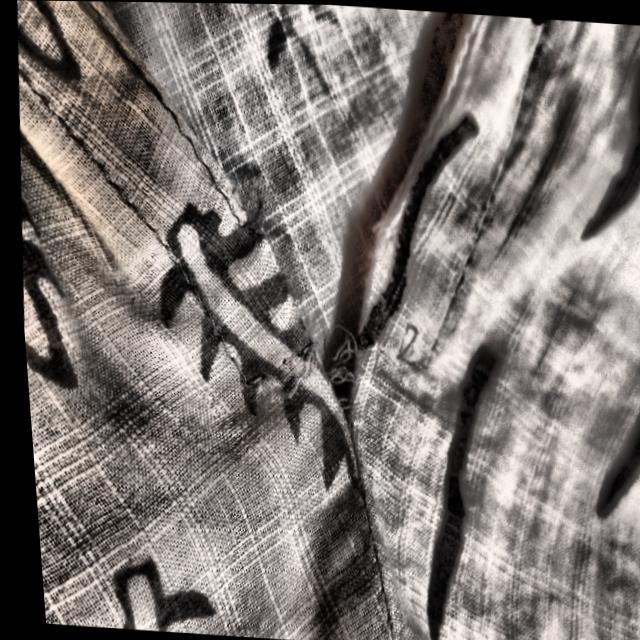Stitch: (221, 316, 402, 412)
